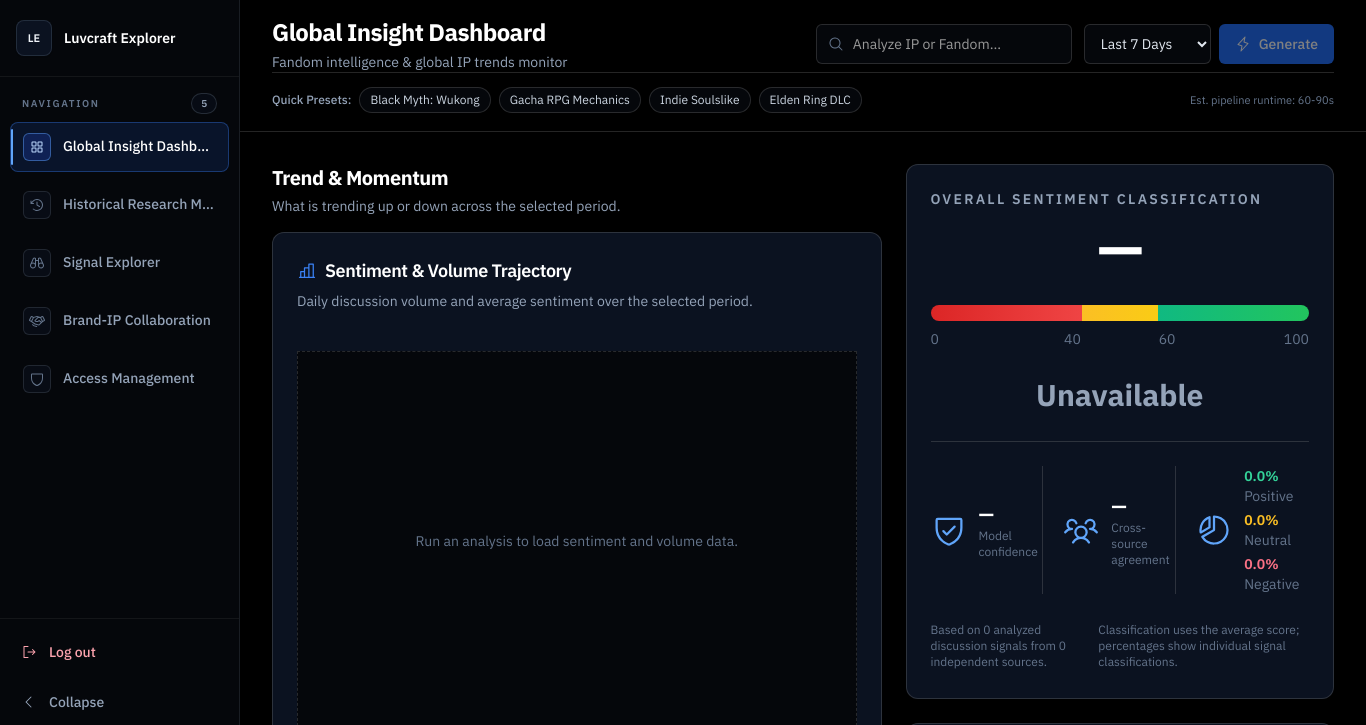
Test: End-to-End Frontend Integration Test Suite › Analysis Workflow Lifecycle › handles poll timeout gracefully and resumes existing run on retry without duplicate submission
The width and height of the screenshot is (1366, 725).
In the field with placeholder "Analyze IP or Fandom...": (944, 44) [816,24,1072,64], type "Elden Ring"
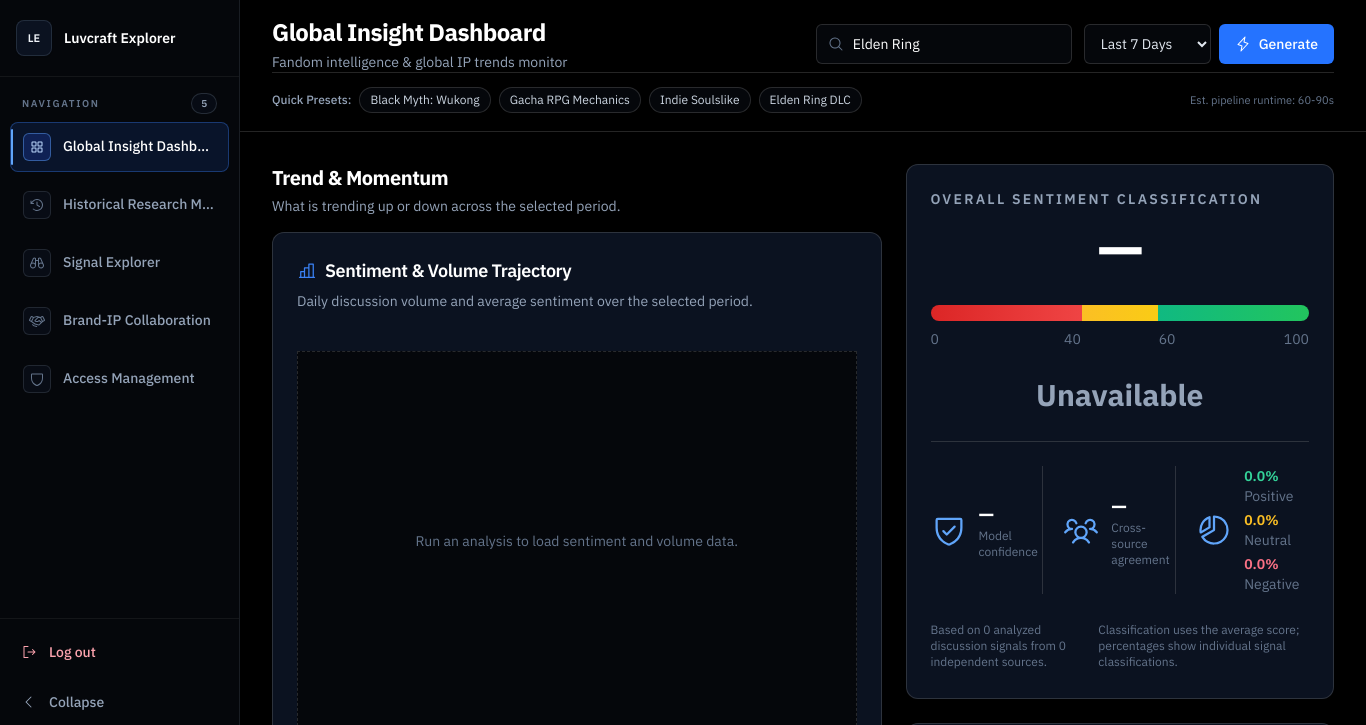
Click the button "Generate": (1276, 44) [1219,24,1334,64]
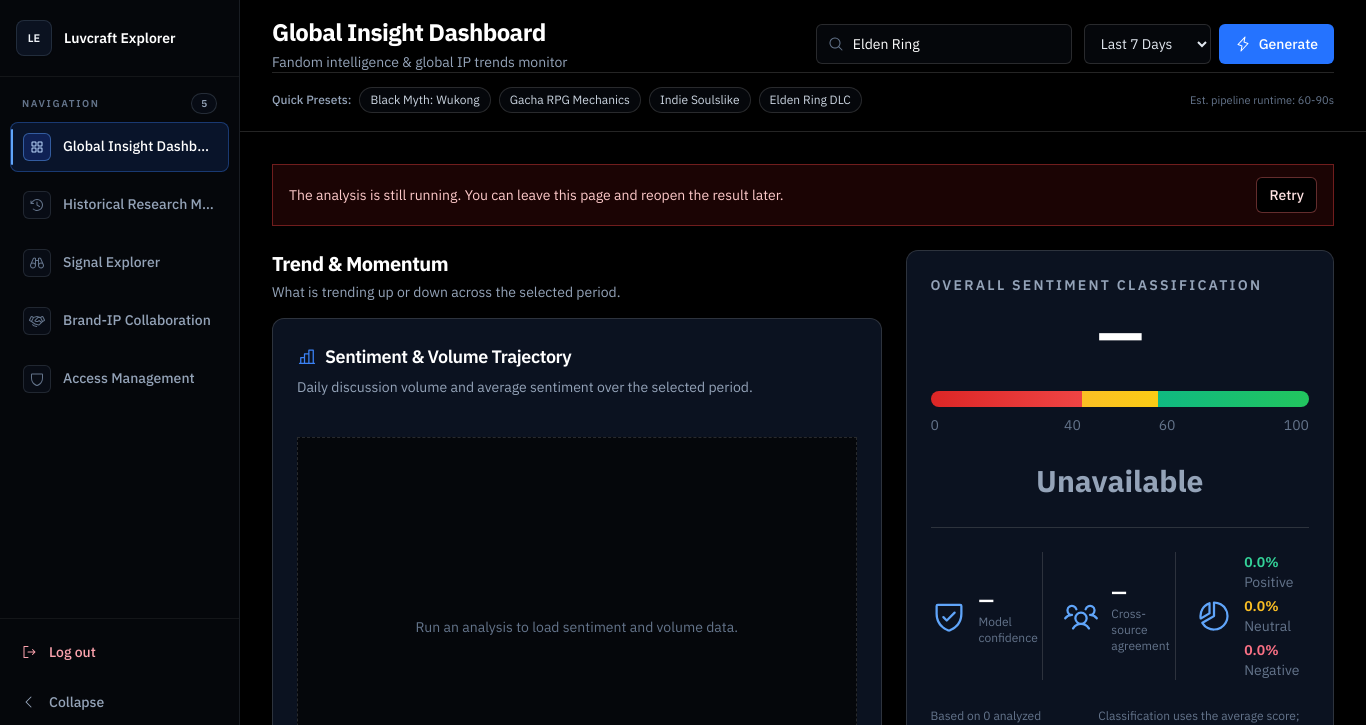
Expected: the text "analysis is still running" is shown, [289,186,784,204]
// Click Retry on error banner
Click the button "Retry": (1287, 195) [1256,177,1317,213]
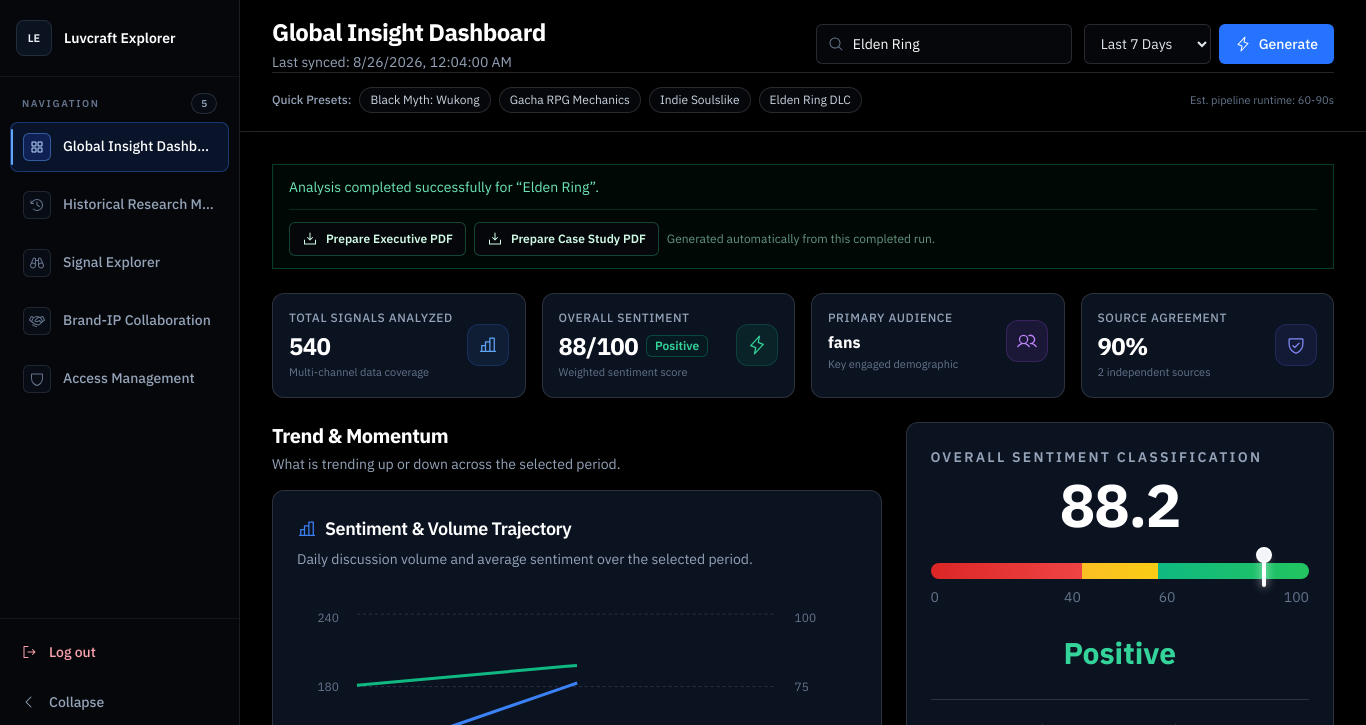
Expected: the text "Analysis completed successfully" is shown, [289,178,492,196]
